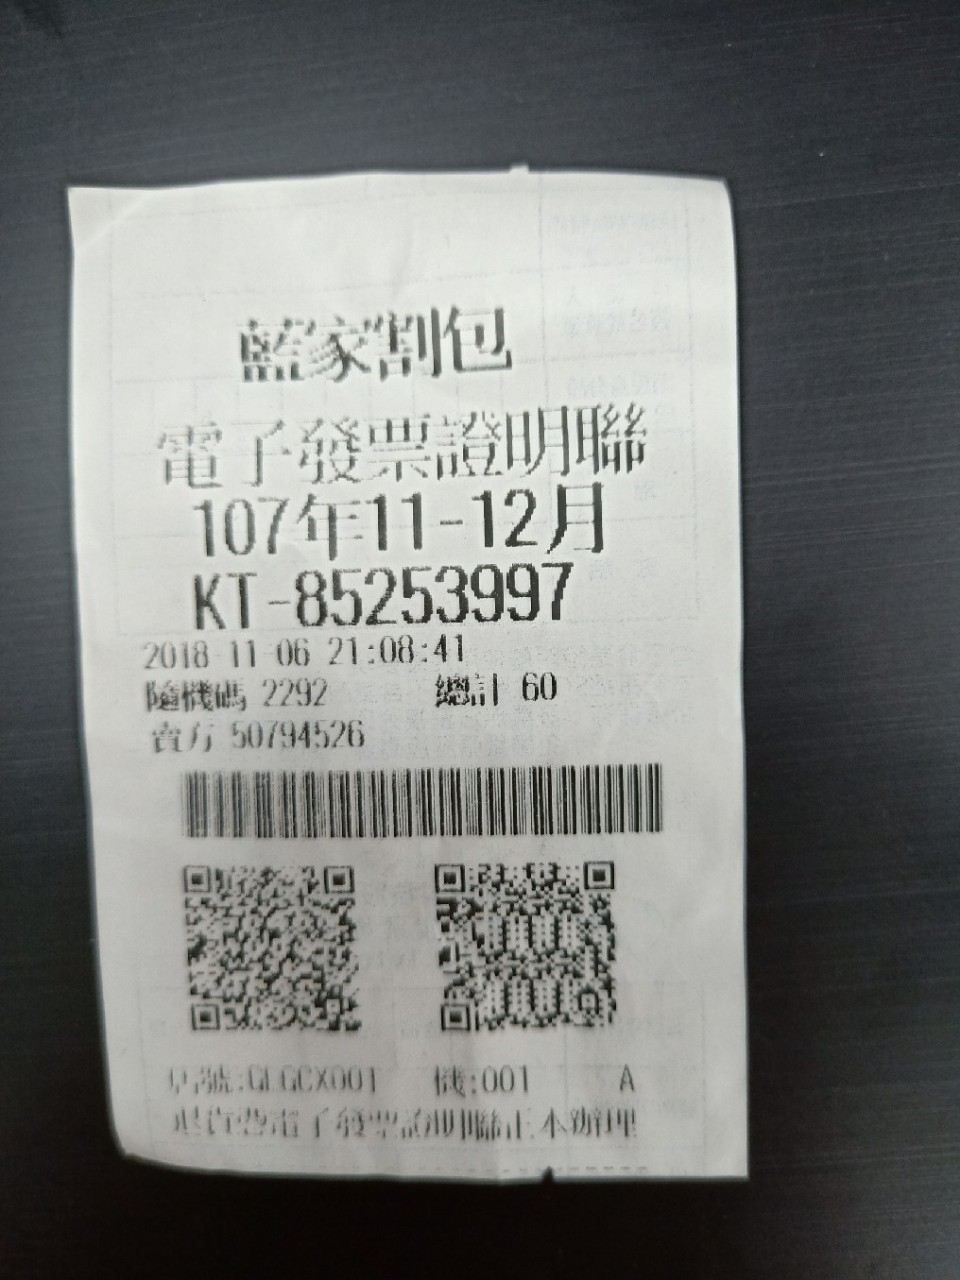Date_New: (190, 478, 608, 558)
Number_New: (291, 557, 583, 628)
